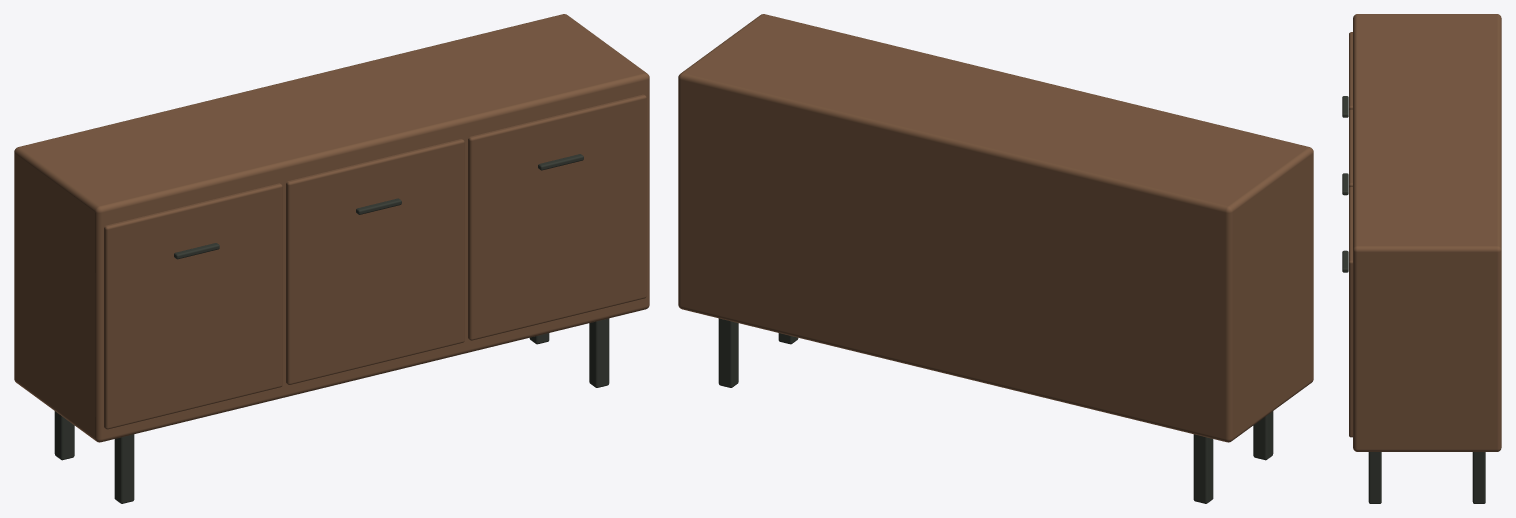
Rendered from line-sideboard-walnut.glb.
The picture shows the model from 3 angles, left to right: view 1: azimuth 30°, elevation 25°; view 2: azimuth 150°, elevation 25°; view 3: azimuth 270°, elevation 25°; orthographic projection. The views are drawn at different scales.
Parts seen in each view (by area): view 1: The Line Sideboard — Walnut; view 2: The Line Sideboard — Walnut; view 3: The Line Sideboard — Walnut.
Part boxes in pixels (left/top/right/bottom): The Line Sideboard — Walnut: left=14, top=14, right=649, bottom=503; The Line Sideboard — Walnut: left=678, top=14, right=1313, bottom=503; The Line Sideboard — Walnut: left=1342, top=14, right=1501, bottom=503.
Size of the model in its own units: 1.4 by 0.75 by 0.4.
